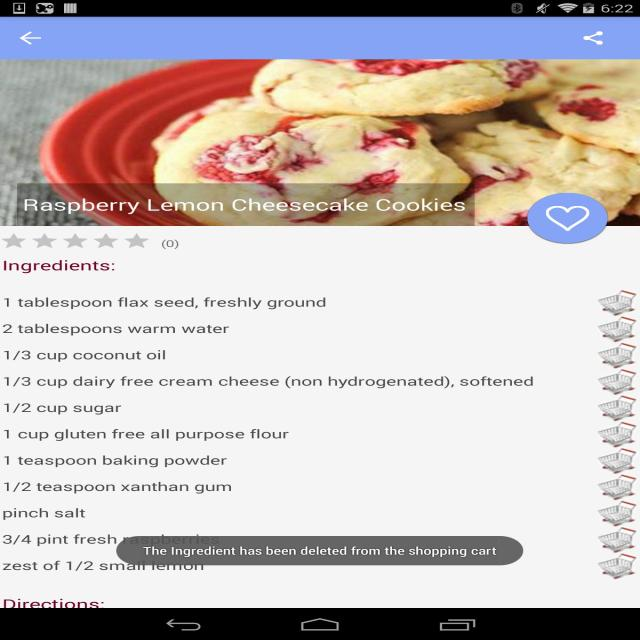button: (528, 193, 609, 245), (579, 30, 617, 51), (19, 29, 47, 50)
heading: (21, 193, 472, 220), (2, 256, 124, 275), (1, 596, 110, 608)
image: (0, 57, 640, 226), (599, 291, 639, 581)
text: (0, 297, 600, 583), (143, 547, 499, 559)
